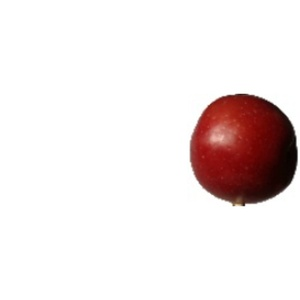maçã braeburn: (187, 92, 300, 201)
